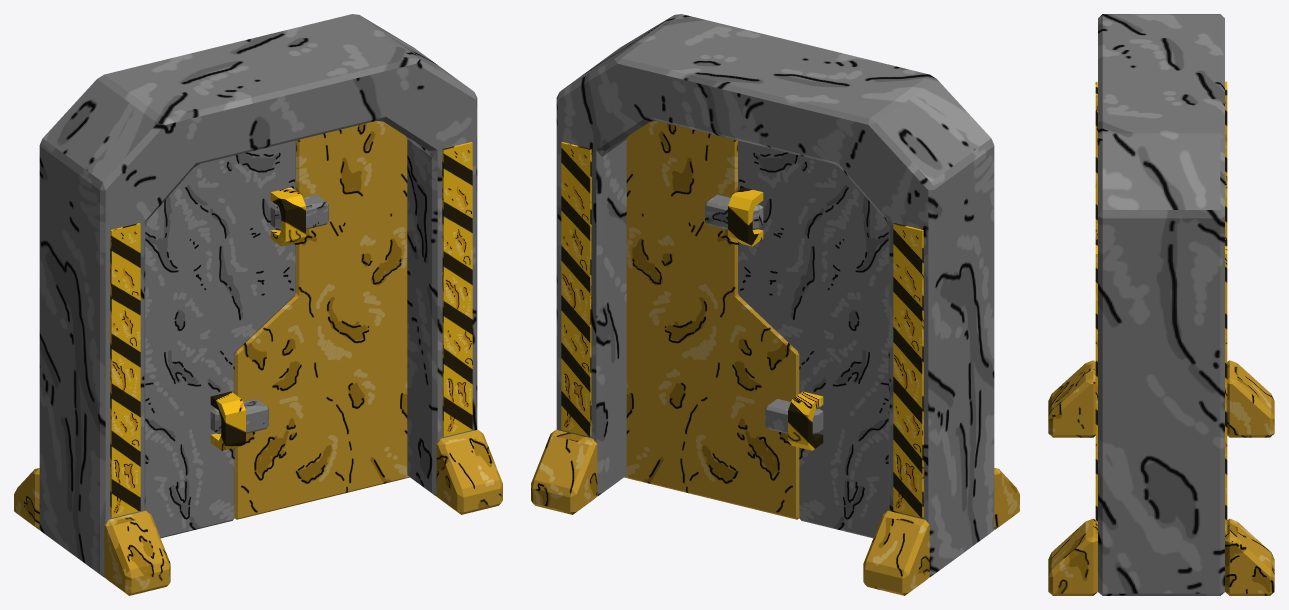
The model's file is Door_2.fbx.
The picture shows the model from 3 angles, left to right: view 1: azimuth 30°, elevation 25°; view 2: azimuth 150°, elevation 25°; view 3: azimuth 270°, elevation 25°; orthographic projection. The views are drawn at different scales.
Visible parts, largest first — view 1: Door Frame, Door.001, Door.002; view 2: Door Frame, Door.001, Door.002; view 3: Door Frame.
Part boxes in pixels (bbox=[...]): Door Frame: bbox=[14, 14, 502, 595]; Door.001: bbox=[210, 121, 409, 519]; Door.002: bbox=[145, 140, 305, 538]; Door Frame: bbox=[531, 14, 1019, 595]; Door.001: bbox=[624, 121, 823, 519]; Door.002: bbox=[728, 140, 888, 538]; Door Frame: bbox=[1048, 14, 1274, 595].
Bounding box in the file's own units: 178 × 199 × 94.29.
